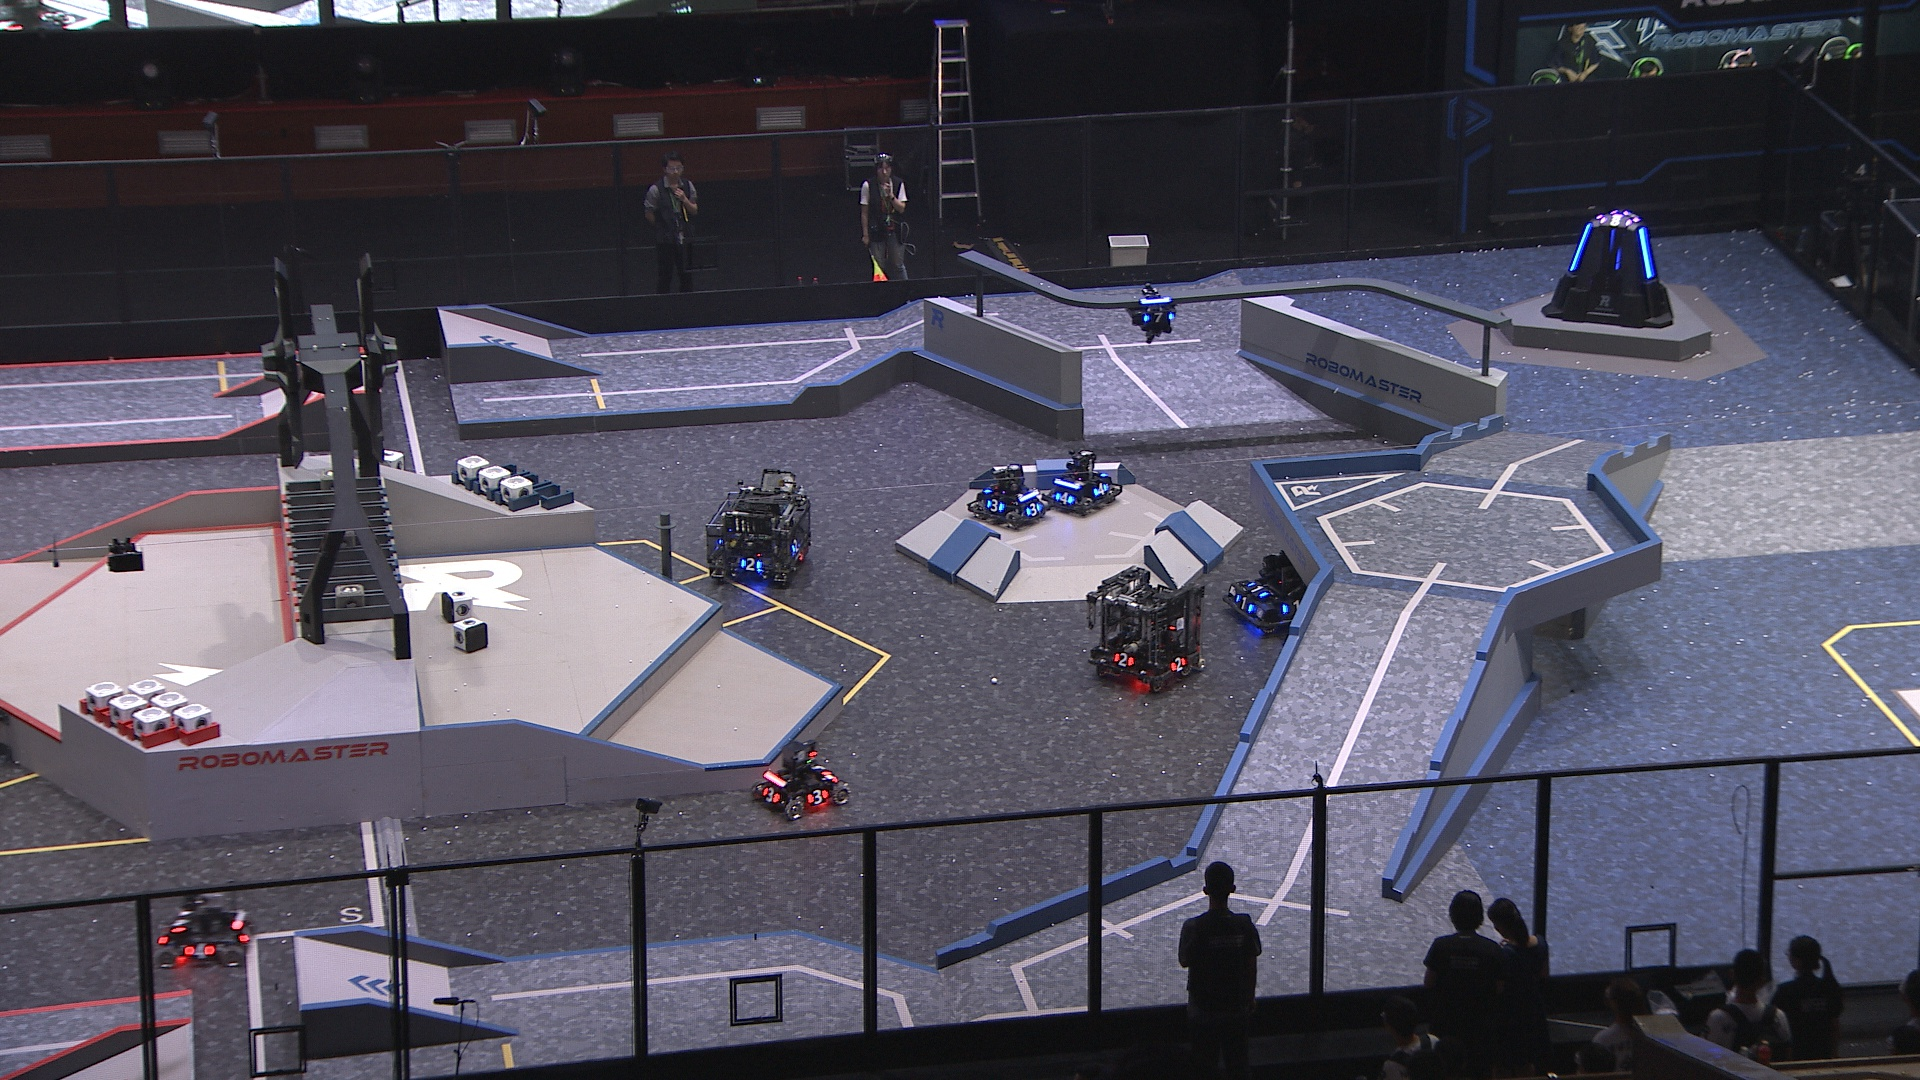armor: (1569, 220, 1593, 272), (1636, 225, 1656, 281), (1245, 579, 1278, 603), (1139, 309, 1178, 324), (736, 555, 766, 574), (185, 942, 216, 959), (1234, 593, 1257, 617), (1280, 597, 1305, 618), (233, 920, 255, 944), (171, 911, 193, 934), (760, 785, 781, 806), (1112, 650, 1135, 669), (803, 789, 828, 806), (808, 761, 832, 778), (982, 496, 1006, 513), (1025, 500, 1046, 518), (1087, 479, 1105, 500), (1054, 489, 1077, 505), (1168, 654, 1188, 673), (789, 534, 802, 556), (1607, 225, 1618, 253)
base: (1539, 206, 1676, 334)
car: (1081, 564, 1211, 699), (707, 467, 816, 585), (1222, 534, 1342, 641), (153, 887, 261, 977), (749, 738, 852, 827), (1044, 446, 1127, 516), (965, 462, 1046, 531)
ignore: (1600, 211, 1634, 229)
watcher: (1122, 281, 1182, 347)
